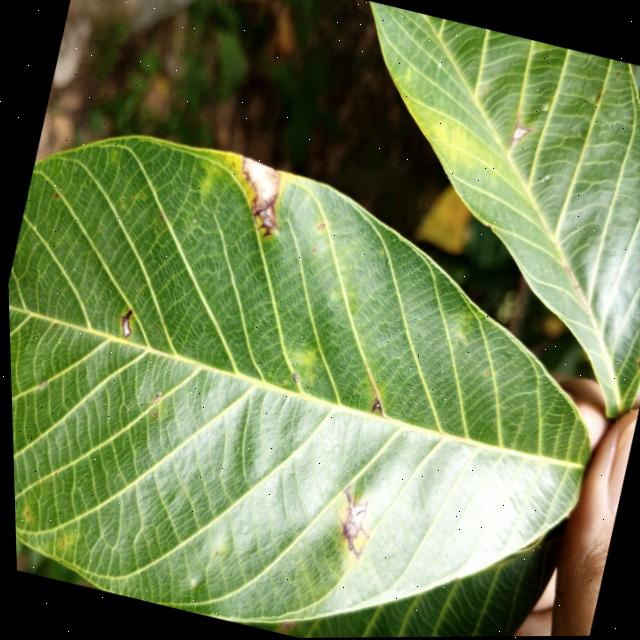Corynespora: (324, 485, 375, 559), (247, 197, 282, 240)
Leaf-Blight: (230, 157, 284, 215), (117, 318, 130, 335)
